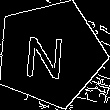N_N: (28, 27, 73, 80)
